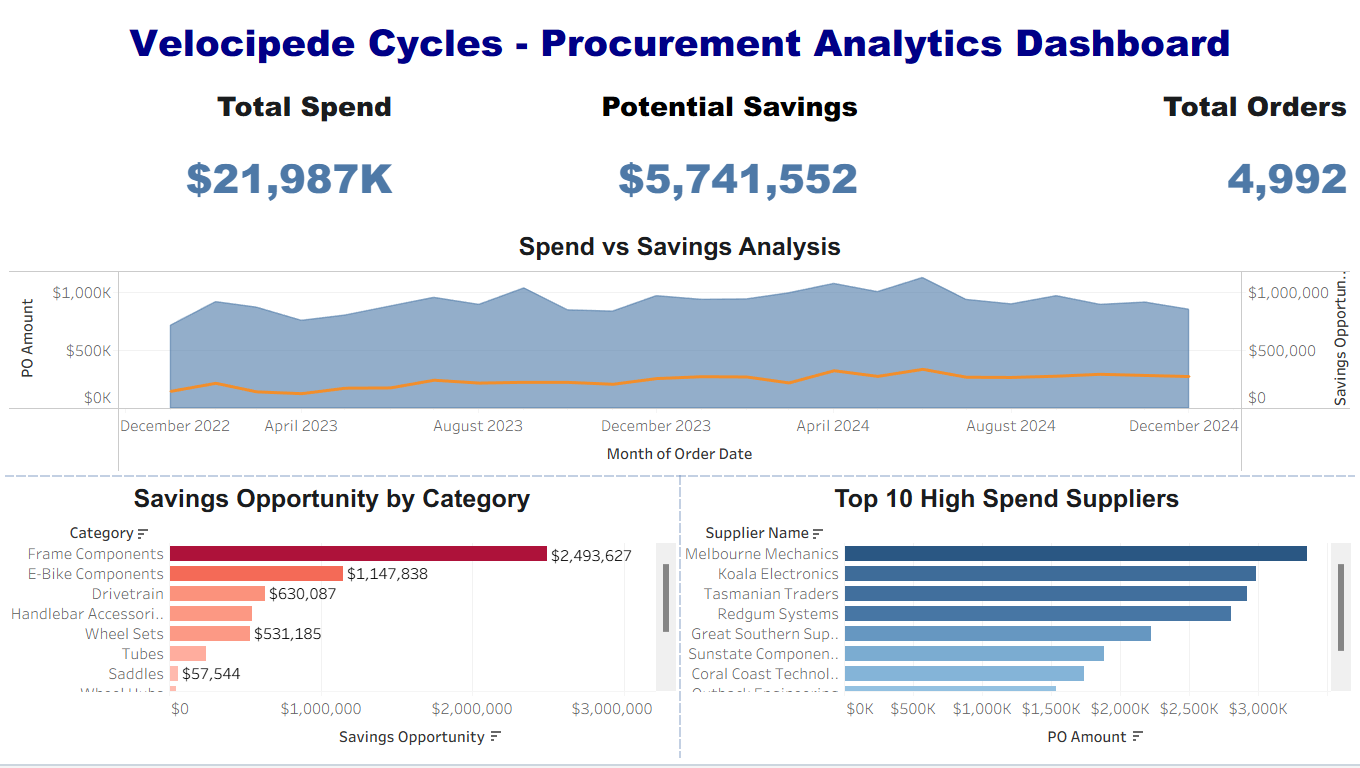

This screenshot's page, from the dashboard's own definition file:
{"tool":"tableau","page":{"name":"Velocipede Cycles - Procurement Analytics Dashboard","canvas":[1366,768],"ordinal":0},"visuals":[{"type":"title","box":[8,8,1350,72]},{"type":"worksheet","title":"KPI - Spend","mark":"Automatic","box":[8,80,395,146]},{"type":"worksheet","title":"KPI - Savings","mark":"Automatic","box":[403,80,466,146]},{"type":"worksheet","title":"KPI - Orders","mark":"Automatic","box":[869,80,489,146]},{"type":"worksheet","title":"Spend vs Savings Analysis","mark":"Automatic","rows":["PO Amount","Calculation_1415649294512131"],"cols":["Order_Date"],"box":[8,226,1350,252]},{"type":"worksheet","title":"Cost Savings by Category","mark":"Automatic","rows":["Category"],"cols":["Calculation_1415649294512131"],"box":[8,478,675,282]},{"type":"worksheet","title":"Top Spend Suppliers","mark":"Automatic","rows":["Supplier Name"],"cols":["PO Amount"],"box":[683,478,675,282]}]}

Visuals, with their boxes in screenshot pixels (x1, y1, x2, y2), scaled from the page's 1366x768 canvas onto the 1360x768 screenshot:
title: x1=8 y1=8 x2=1352 y2=80
"KPI - Spend" worksheet: x1=8 y1=80 x2=401 y2=226
"KPI - Savings" worksheet: x1=401 y1=80 x2=865 y2=226
"KPI - Orders" worksheet: x1=865 y1=80 x2=1352 y2=226
"Spend vs Savings Analysis" worksheet: x1=8 y1=226 x2=1352 y2=478
"Cost Savings by Category" worksheet: x1=8 y1=478 x2=680 y2=760
"Top Spend Suppliers" worksheet: x1=680 y1=478 x2=1352 y2=760
